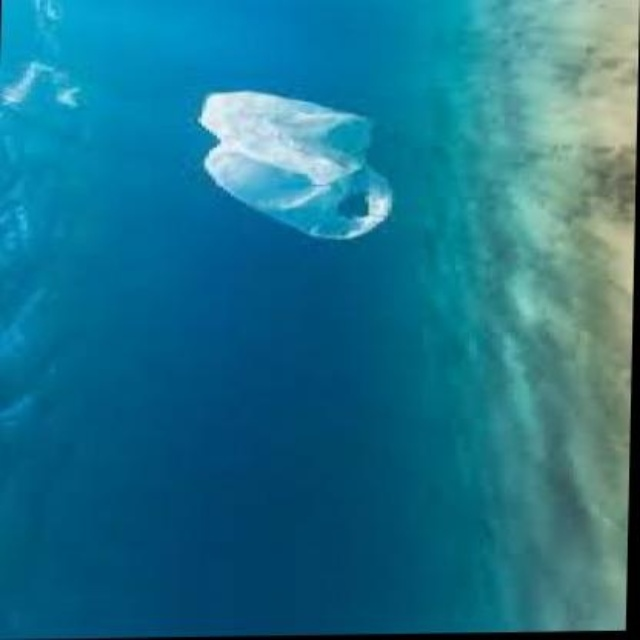trash: (198, 91, 391, 238)
